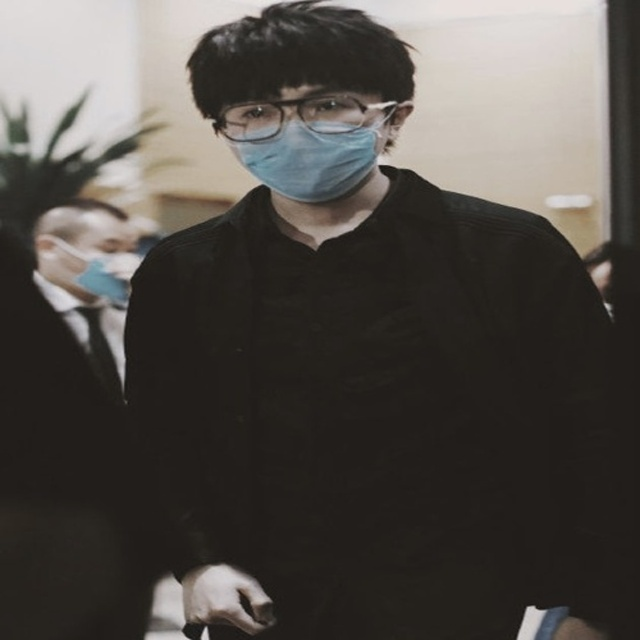mask: (234, 118, 389, 205), (74, 251, 137, 307)
person: (120, 1, 640, 640), (25, 195, 132, 403)
